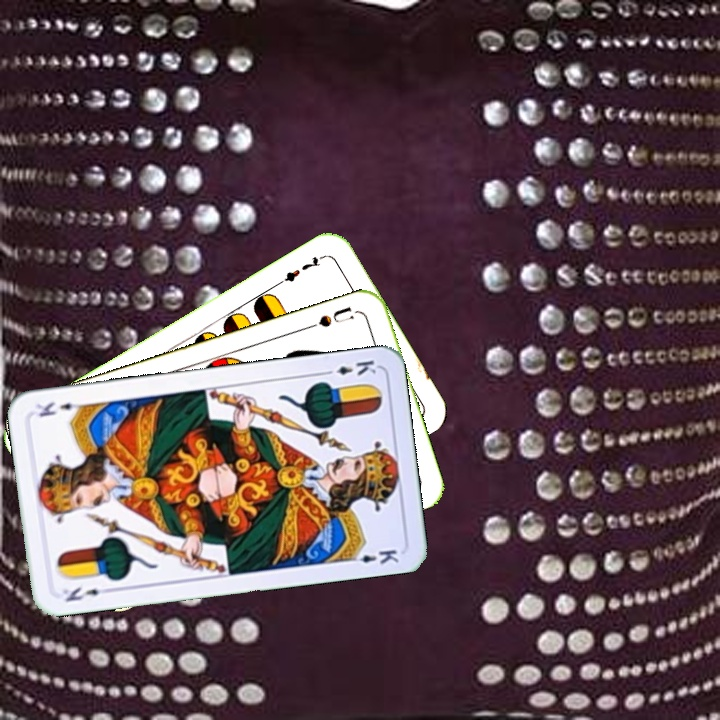E7: (274, 251, 328, 288)
EK: (319, 356, 379, 378), (58, 583, 114, 605)
SU: (303, 302, 361, 332)
